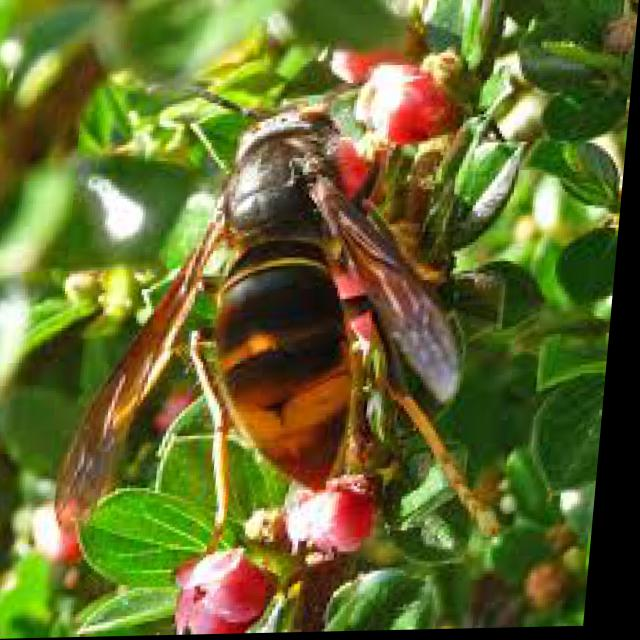Vespa Velutina: (48, 65, 549, 580)
